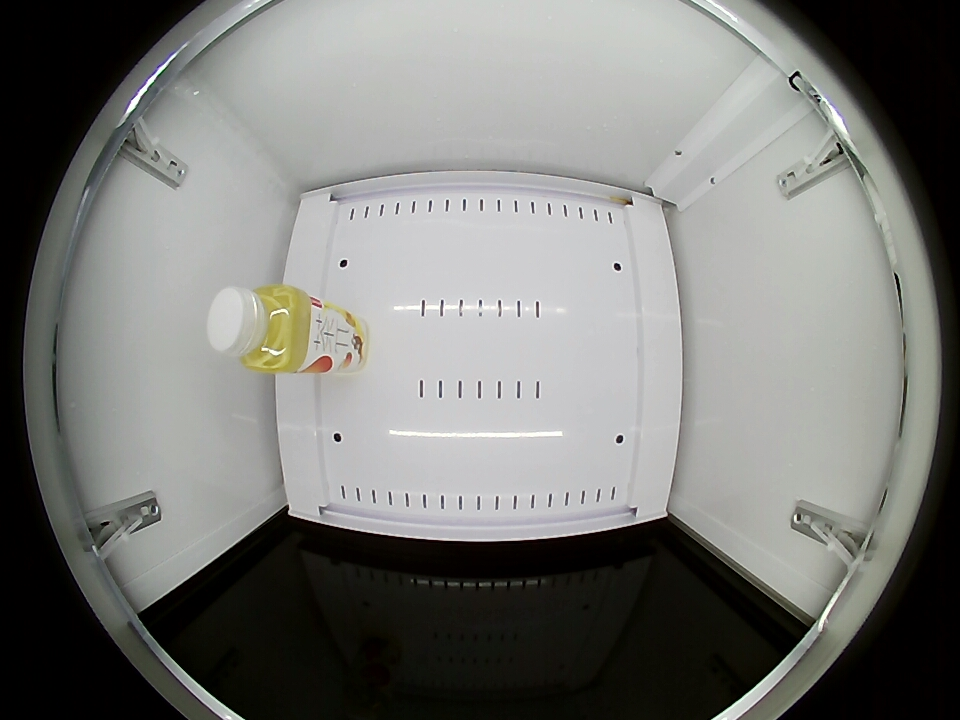chapai2: (208, 284, 312, 374)
